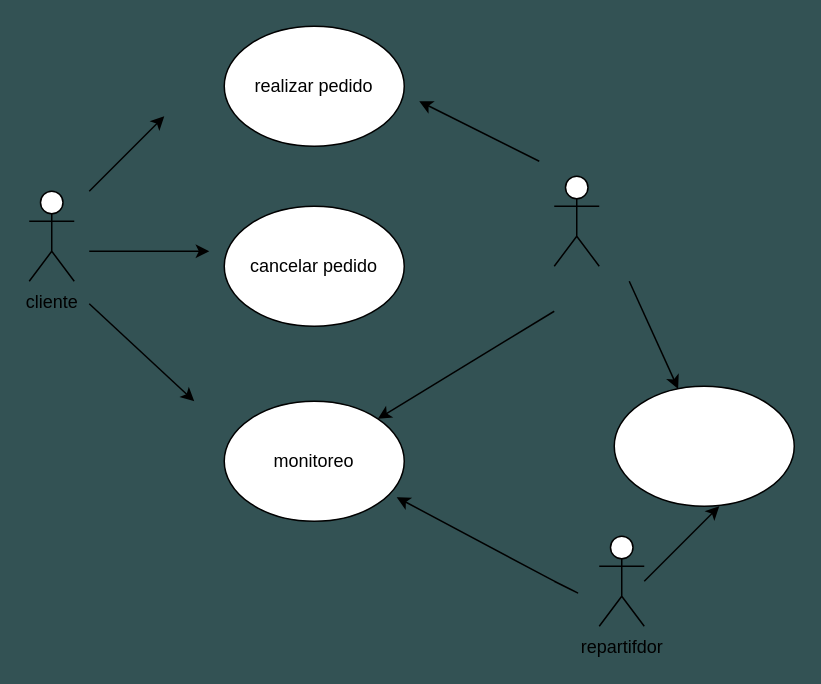
Some shapes in this 821 by 684 pixel diagram are drawn without their labels. The shapes that lost their labels are listed below. From the top down, each one's centre as x and y in pixels, then its label:
At (x=576, y=220): "Recepcionista".
At (x=703, y=445): "enviar pedido".
